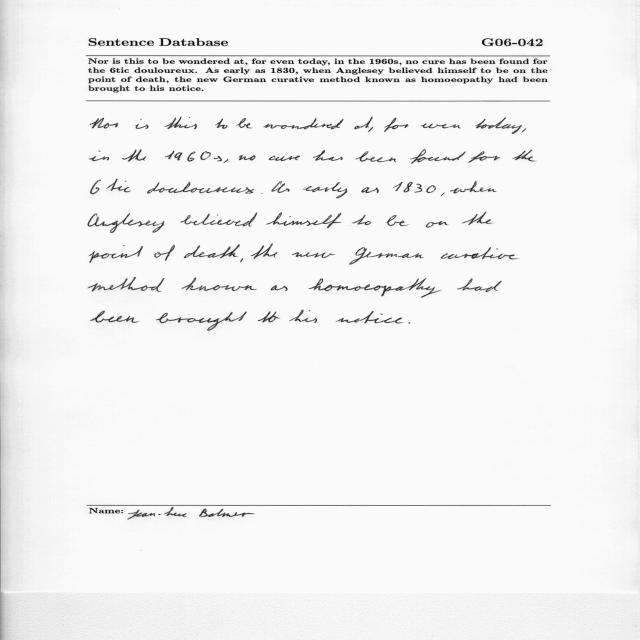word: (308, 278, 442, 298), (156, 312, 246, 331), (88, 213, 164, 233), (349, 247, 424, 265), (266, 212, 341, 228), (147, 182, 254, 193), (88, 277, 164, 292), (181, 213, 257, 227), (181, 277, 257, 291), (441, 247, 518, 260), (89, 245, 143, 263), (263, 118, 344, 129), (410, 149, 466, 164), (336, 311, 403, 323), (475, 117, 522, 134), (184, 244, 240, 258), (303, 182, 347, 198), (457, 278, 502, 292), (165, 151, 222, 162), (91, 310, 139, 323), (91, 179, 132, 194), (450, 181, 496, 193), (393, 182, 436, 193), (356, 151, 396, 162), (251, 243, 278, 259), (462, 212, 494, 225), (164, 117, 197, 129), (468, 151, 500, 163), (290, 310, 318, 323), (384, 118, 409, 132), (154, 245, 175, 261), (313, 150, 343, 161), (122, 149, 146, 162), (90, 118, 118, 129), (513, 150, 537, 161), (292, 252, 335, 258), (386, 215, 409, 226), (258, 312, 280, 323), (354, 117, 373, 129), (271, 181, 290, 193), (89, 151, 109, 162), (421, 124, 461, 129), (352, 215, 371, 225), (269, 156, 300, 162), (236, 118, 253, 128), (426, 221, 449, 228), (215, 118, 228, 129), (135, 119, 149, 129), (361, 187, 379, 193), (271, 285, 288, 291), (239, 155, 256, 160), (368, 127, 373, 132), (522, 128, 527, 132), (224, 159, 229, 163), (441, 193, 445, 197), (240, 258, 243, 262), (408, 322, 410, 324), (261, 193, 263, 194)
